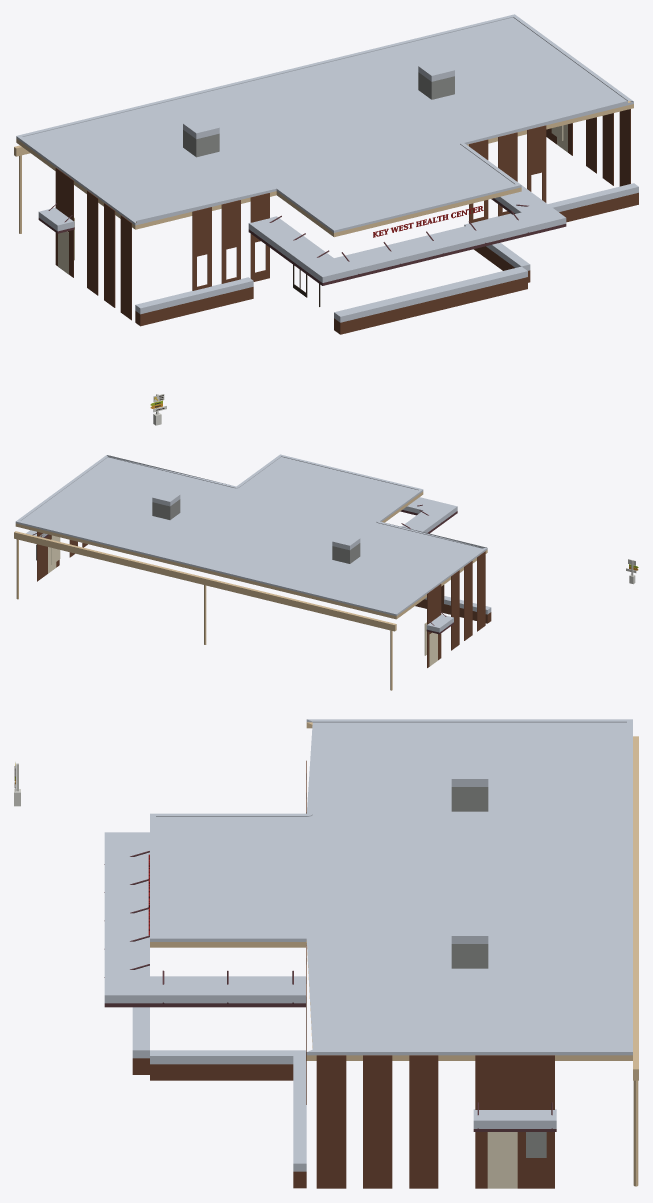
File: kw_727_exterior.glb
The picture shows the model from 3 angles, top to bottom: view 1: azimuth 30°, elevation 25°; view 2: azimuth 150°, elevation 25°; view 3: azimuth 270°, elevation 25°; orthographic projection. The views are drawn at different scales.
Parts seen in each view (by area): view 1: Snow, AccentBands, Planters-col, WallTrim, Equipment, Canopy-col, ServiceDoors; view 2: Snow, WallTrim, AccentBands, Equipment, ServiceDoors; view 3: Snow, AccentBands, WallTrim, Planters-col, Equipment, ServiceDoors, Canopy-col.
Boxes of the visible parts, box(x1,y1,x2,y2) form: Snow: box(16, 14, 638, 322); AccentBands: box(55, 109, 630, 320); Planters-col: box(135, 192, 638, 334); WallTrim: box(14, 101, 633, 237); Equipment: box(183, 72, 454, 157); Canopy-col: box(248, 198, 566, 285); ServiceDoors: box(58, 124, 567, 274); Snow: box(15, 454, 491, 632); WallTrim: box(14, 491, 487, 690); AccentBands: box(37, 532, 485, 667); Equipment: box(36, 499, 360, 563); ServiceDoors: box(48, 535, 437, 666); Snow: box(104, 719, 632, 1171); AccentBands: box(306, 760, 554, 1188); WallTrim: box(150, 722, 638, 1186); Planters-col: box(132, 1058, 306, 1188); Equipment: box(451, 787, 546, 1157); ServiceDoors: box(487, 1132, 517, 1188); Canopy-col: box(104, 1003, 305, 1007).
Size of what is drawn, in the model's own units: 32.23 by 6.41 by 20.99.
